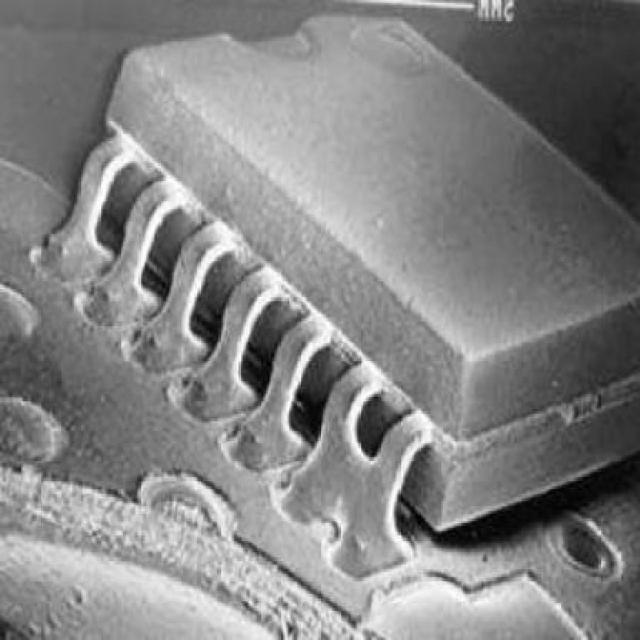Soldering shorted: (277, 353, 428, 579)
